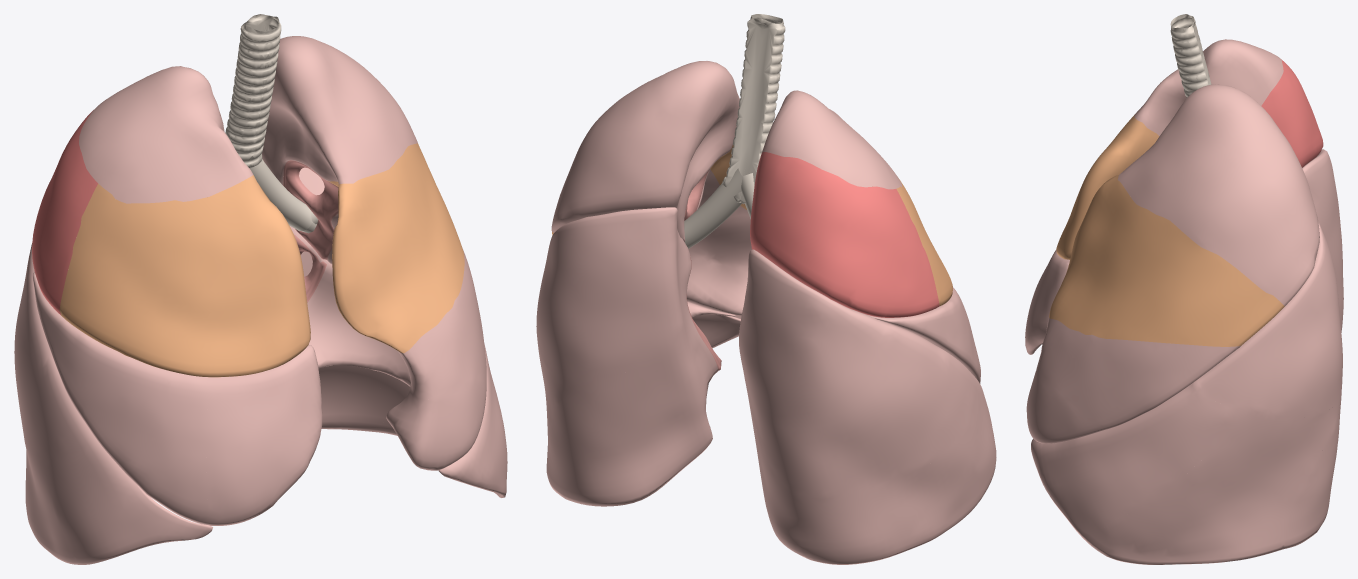
The model's file is lungs.glb.
3 views of the same model, side by side, from view 1: azimuth 30°, elevation 25°; view 2: azimuth 150°, elevation 25°; view 3: azimuth 270°, elevation 25° (orthographic). The views are drawn at different scales.
Parts seen in each view (by area): view 1: Superior lobe of right lung, Superior lobe of left lung, Middle lobe of right lung, Inferior lobe of right lung, Inferior lobe of left lung, Trachea, Left main bronchus; view 2: Inferior lobe of right lung, Inferior lobe of left lung, Superior lobe of right lung, Superior lobe of left lung, Trachea, Middle lobe of right lung, Left main bronchus; view 3: Superior lobe of left lung, Inferior lobe of left lung, Superior lobe of right lung, Inferior lobe of right lung, Trachea, Middle lobe of right lung.
Boxes of the visible parts, x1,y1,x2,y2 form: Superior lobe of right lung: (32, 66, 310, 377); Superior lobe of left lung: (262, 36, 486, 470); Middle lobe of right lung: (33, 272, 322, 525); Inferior lobe of right lung: (14, 243, 212, 564); Inferior lobe of left lung: (290, 167, 507, 497); Trachea: (225, 14, 281, 167); Left main bronchus: (250, 159, 312, 230); Inferior lobe of right lung: (739, 249, 996, 564); Inferior lobe of left lung: (536, 207, 740, 506); Superior lobe of right lung: (750, 90, 952, 317); Superior lobe of left lung: (551, 61, 751, 318); Trachea: (722, 14, 785, 203); Middle lobe of right lung: (865, 287, 980, 383); Left main bronchus: (684, 168, 742, 248); Superior lobe of left lung: (1026, 84, 1319, 443); Inferior lobe of left lung: (1031, 221, 1342, 564); Superior lobe of right lung: (1056, 39, 1323, 259); Inferior lobe of right lung: (1042, 149, 1343, 344); Trachea: (1170, 14, 1211, 98); Middle lobe of right lung: (1025, 250, 1069, 354).
Size of the model in its own units: 0.261 by 0.2936 by 0.1857.
